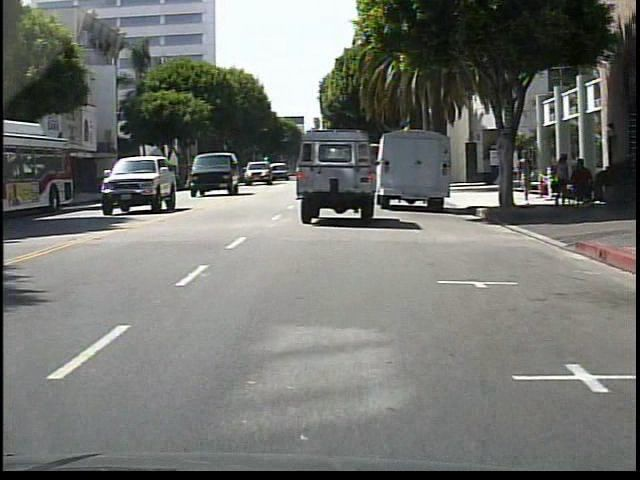person: (517, 147, 537, 205), (553, 154, 570, 206)
